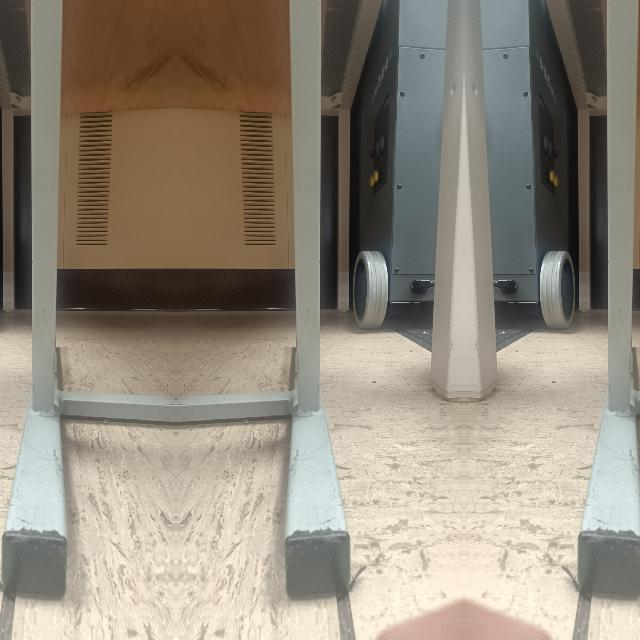obstacle: (282, 202, 354, 600), (0, 202, 68, 599), (574, 202, 640, 599)
